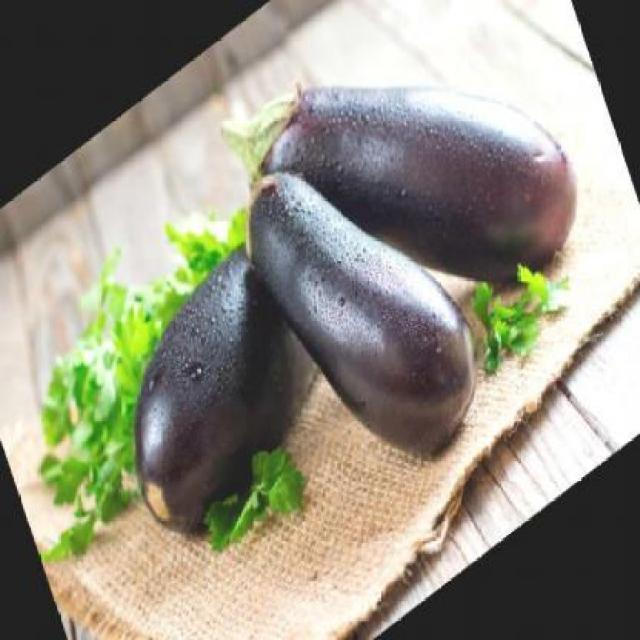eggplant: (214, 0, 597, 445), (224, 62, 501, 530), (94, 218, 338, 558)
